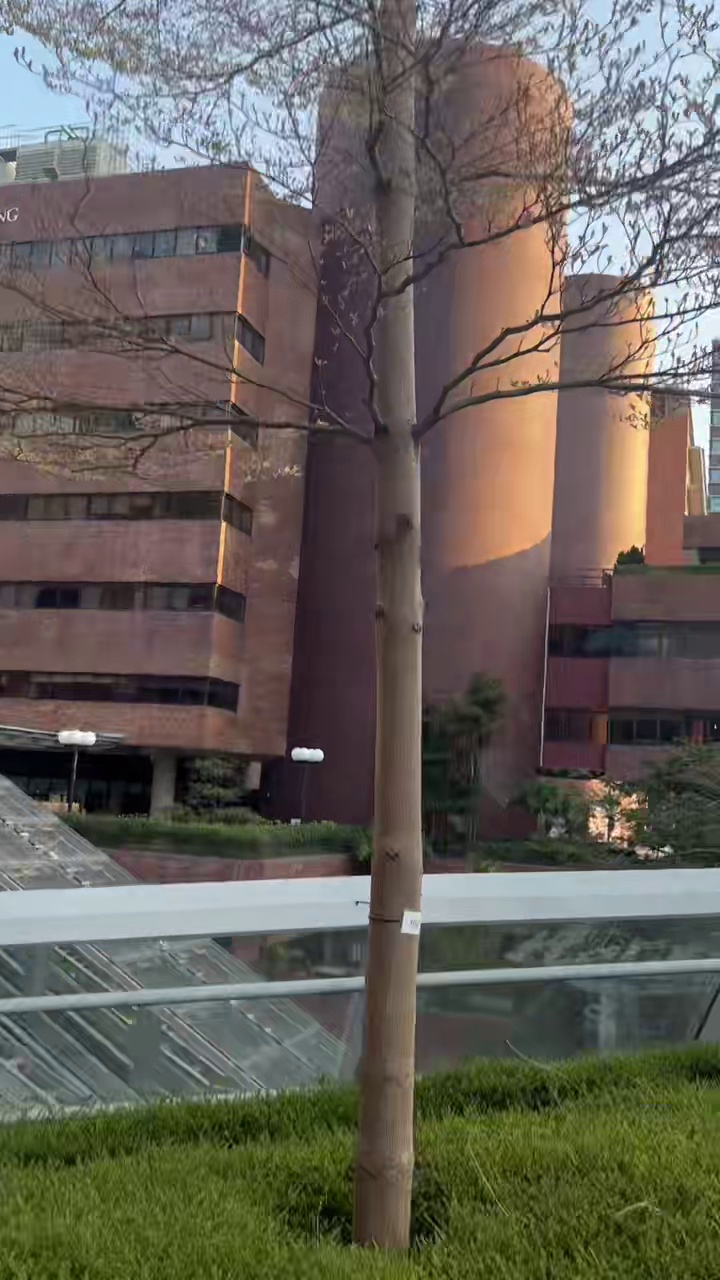Terminalia mantaly: (0, 0, 719, 1248)
